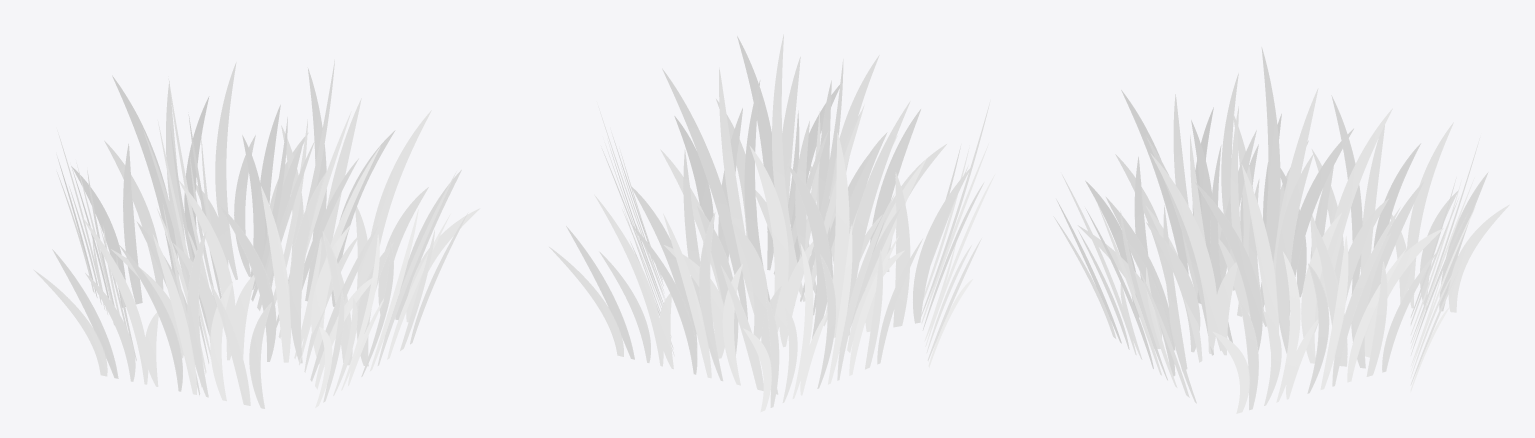
Rendered from Grass_1.fbx.
The picture shows the model from 3 angles, left to right: view 1: azimuth 30°, elevation 25°; view 2: azimuth 150°, elevation 25°; view 3: azimuth 270°, elevation 25°; orthographic projection. The views are drawn at different scales.
Visible parts, largest first — view 1: Grass_1; view 2: Grass_1; view 3: Grass_1.
Boxes of the visible parts, x1,y1,x2,y2 form: Grass_1: [33, 59, 480, 408]; Grass_1: [549, 34, 995, 412]; Grass_1: [1053, 47, 1509, 413].
Bounding box in the file's own units: 96.36 × 54.62 × 94.51.
